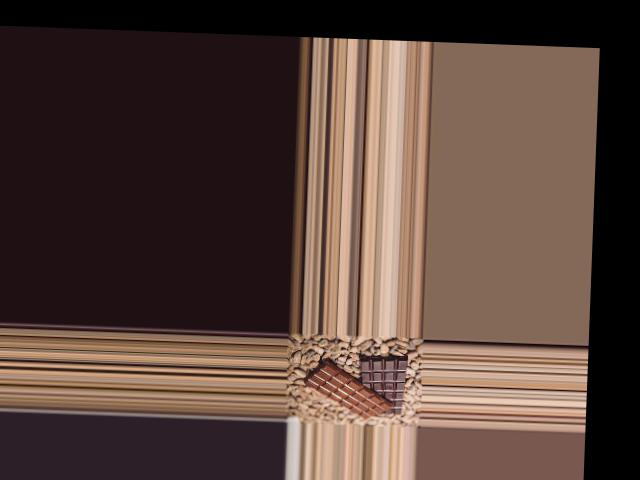chocolate: (358, 351, 414, 418)
